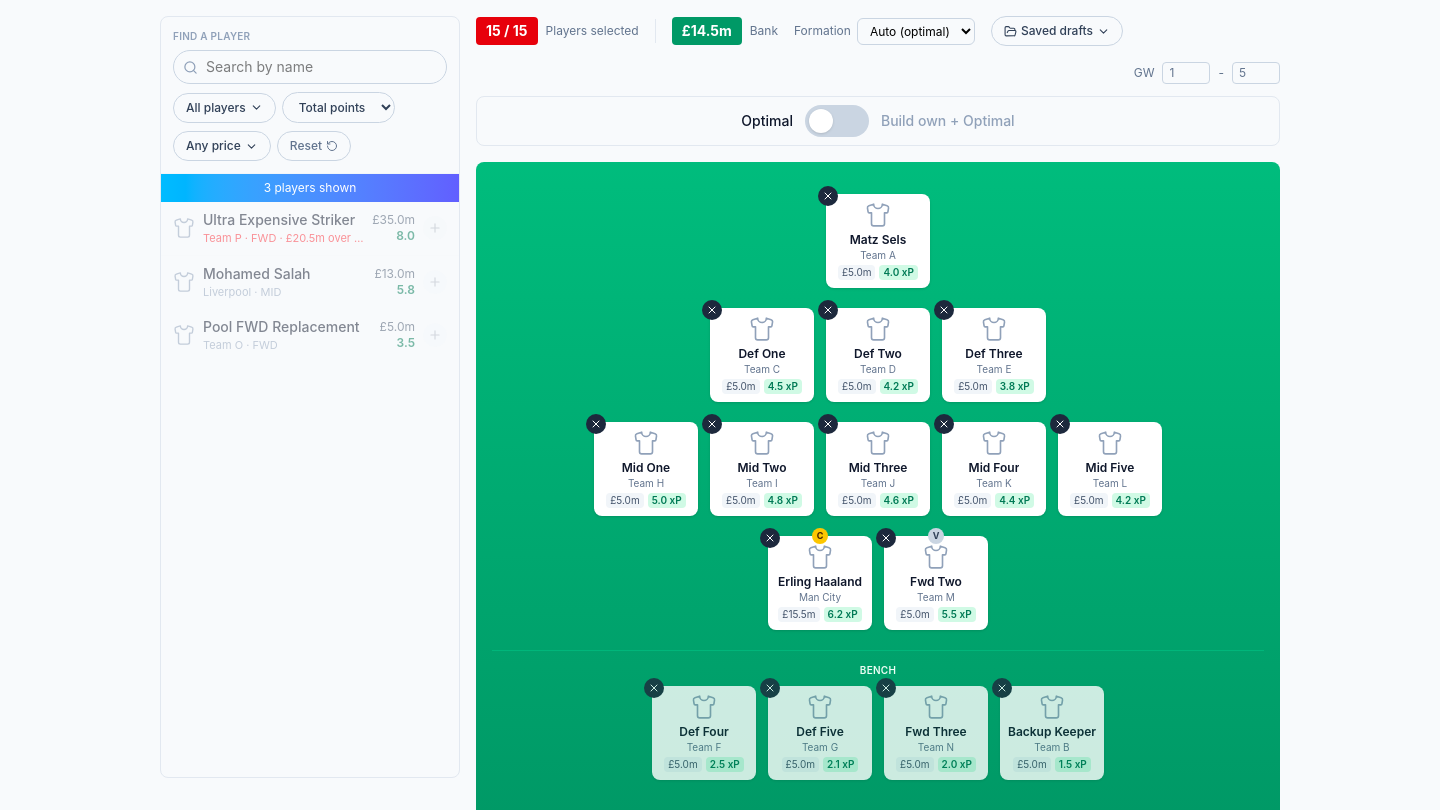
Scenario: SquadBuilder › sidebar shows over-budget candidates WITH a warning, but still allows adding them (warn, not block)
Click the button named "Remove Erling Haaland" at {"x": 770, "y": 538}, box [760, 528, 780, 548]
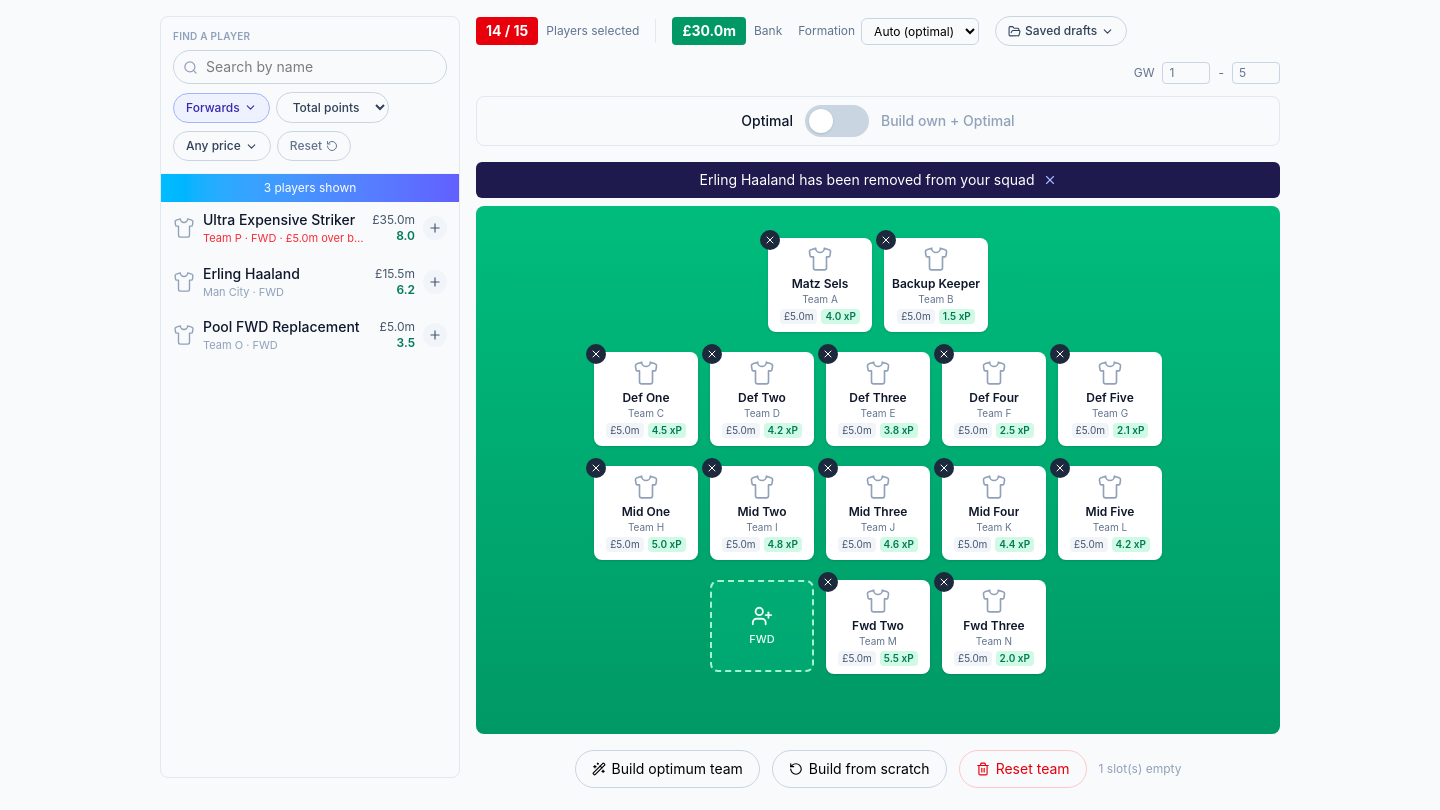
expect the text "Ultra Expensive Striker" is shown: met, box [203, 210, 364, 230]
expect the button named "Add Ultra Expensive Striker" is enabled: met
Click the button named "Add Ultra Expensive Striker" at {"x": 435, "y": 228}, box [423, 216, 447, 240]
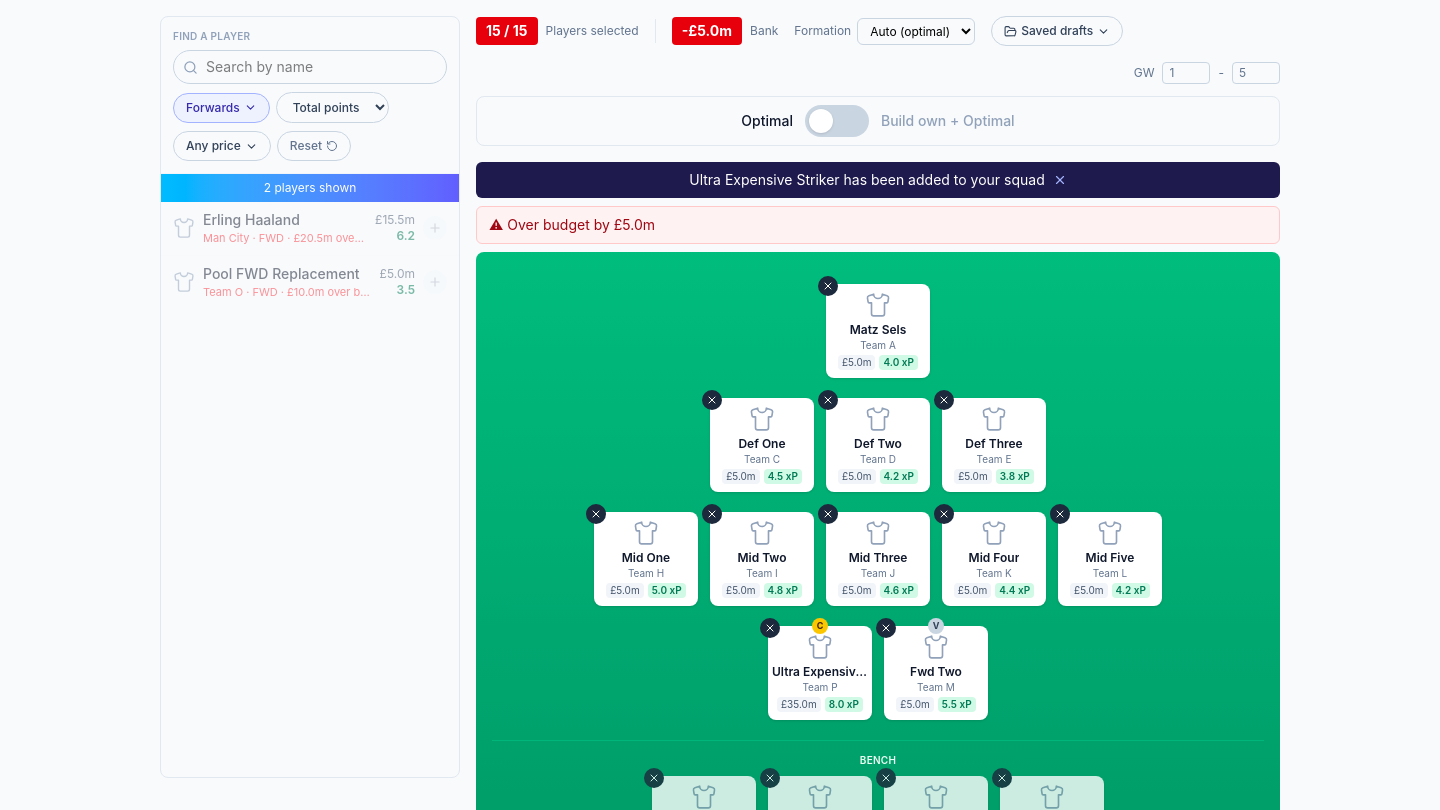
expect the text "⚠ Over budget by £5.0m" is shown: met, box [489, 216, 655, 233]
